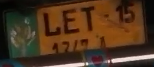LET: (3, 1, 151, 65)
